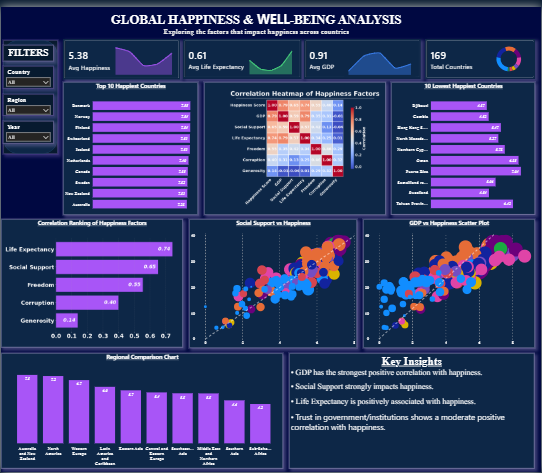

Layout of this report page (visuals, bound fields, positions):
{"tool":"powerbi","page":{"name":"Page 1","canvas":[1800,1550],"ordinal":0},"visuals":[{"type":"textbox","box":[198.3,5,1301.7,100],"z":0},{"type":"shape","box":[5,110,182.5,380],"z":1000},{"type":"textbox","box":[5,127.1,168.6,54.3],"z":2000},{"type":"slicer","fields":{"Values":["Happiness_Data.Country"]},"box":[5,197.9,168.6,75],"z":3000},{"type":"slicer","fields":{"Values":["Happiness_Data.Region"]},"box":[5,291.4,168.6,72.1],"z":4000},{"type":"slicer","fields":{"Values":["Happiness_Data.Year"]},"box":[5,381.4,168.6,75],"z":5000},{"type":"cardVisual","fields":{"Data":["Happiness_Data.Avg Happiness"]},"box":[207.5,105,390,135],"z":6000},{"type":"lineChart","fields":{"Y":["Sum(Happiness_Data.Happiness Score)"],"Category":["Happiness_Data.Year"]},"box":[367.3,120,218.2,110.9],"z":7000},{"type":"cardVisual","fields":{"Data":["Happiness_Data.Avg Life Expectancy","Happiness_Data.Avg Life Expectancy"]},"box":[605,107.5,395,132.5],"z":8000},{"type":"lineChart","fields":{"Category":["Happiness_Data.Year"],"Y":["Sum(Happiness_Data.Life Expectancy)"]},"box":[813.6,117.3,171.8,112.7],"z":9000},{"type":"cardVisual","fields":{"Data":["Happiness_Data.Total Countries"]},"box":[1411.7,106.7,366.7,133.3],"z":10000},{"type":"donutChart","fields":{"Category":["Happiness_Data.Region"],"Y":["Happiness_Data.Total Countries"]},"box":[1605.5,117.3,171.8,112.7],"z":11000},{"type":"cardVisual","fields":{"Data":["Happiness_Data.Avg GDP","Happiness_Data.Avg GDP"]},"box":[1010.9,107.3,389.1,132.7],"z":12000},{"type":"lineChart","fields":{"Category":["Happiness_Data.Year"],"Y":["Sum(Happiness_Data.GDP)"]},"box":[1144.5,115.5,238.2,114.5],"z":13000},{"type":"pythonVisual","fields":{"Values":["Happiness_Data.Happiness Score","Happiness_Data.GDP","Happiness_Data.Social Support","Happiness_Data.Life Expectancy","Happiness_Data.Freedom","Happiness_Data.Corruption","Happiness_Data.Generosity"]},"box":[676.2,250,606.2,442.5],"z":14000},{"type":"clusteredBarChart","title":"Top 10 Happiest Countries","fields":{"Category":["Happiness_Data.Country"],"Y":["Avg(Happiness_Data.Happiness Score)"]},"box":[207.5,250,450,442.5],"z":15000},{"type":"clusteredBarChart","title":"10 Lowest Happiest Countries","fields":{"Category":["Happiness_Data.Country"],"Y":["Avg(Happiness_Data.Happiness Score)"]},"box":[1298.3,250,480,441.7],"z":16000},{"type":"clusteredColumnChart","title":"Regional Comparison Chart","fields":{"Category":["Happiness_Data.Region"],"Y":["Happiness_Data.Avg Happiness"]},"box":[0,1153.3,940,385],"z":17000},{"type":"scatterChart","title":"GDP vs Happiness Scatter Plot","fields":{"X":["Sum(Happiness_Data.GDP)"],"Y":["Sum(Happiness_Data.Happiness Score)"],"Size":["Sum(Happiness_Data.Life Expectancy)"],"Series":["Happiness_Data.Region"],"Category":["Happiness_Data.Country"]},"box":[1205,705,573.3,430],"z":18000},{"type":"scatterChart","title":"Social Support vs Happiness","fields":{"Y":["Sum(Happiness_Data.Happiness Score)"],"Series":["Happiness_Data.Region"],"Category":["Happiness_Data.Country"],"X":["Sum(Happiness_Data.Social Support)"],"Size":["Sum(Happiness_Data.GDP)"]},"box":[625,705,560,430],"z":19000},{"type":"pythonVisual","title":"Correlation Ranking of Happiness Factors","fields":{"Values":["Happiness_Data.Happiness Score","Happiness_Data.Social Support","Happiness_Data.Life Expectancy","Happiness_Data.Freedom","Happiness_Data.Generosity","Happiness_Data.Corruption"]},"box":[0,706,606,428],"z":20000},{"type":"textbox","box":[960,1153.3,818.3,385],"z":21000}]}

Visuals, with their boxes in screenshot pixels (x1, y1, x2, y2), scaled from the page's 1800x1550 canvas onto the 542x473 screenshot:
textbox: l=60, t=2, r=452, b=32
shape: l=2, t=34, r=56, b=150
textbox: l=2, t=39, r=52, b=55
slicer - Happiness_Data.Country: l=2, t=60, r=52, b=83
slicer - Happiness_Data.Region: l=2, t=89, r=52, b=111
slicer - Happiness_Data.Year: l=2, t=116, r=52, b=139
cardVisual - Happiness_Data.Avg Happiness: l=62, t=32, r=180, b=73
lineChart - Sum(Happiness_Data.Happiness Score) x Happiness_Data.Year: l=111, t=37, r=176, b=70
cardVisual - Happiness_Data.Avg Life Expectancy x Happiness_Data.Avg Life Expectancy: l=182, t=33, r=301, b=73
lineChart - Happiness_Data.Year x Sum(Happiness_Data.Life Expectancy): l=245, t=36, r=297, b=70
cardVisual - Happiness_Data.Total Countries: l=425, t=33, r=535, b=73
donutChart - Happiness_Data.Region x Happiness_Data.Total Countries: l=483, t=36, r=535, b=70
cardVisual - Happiness_Data.Avg GDP x Happiness_Data.Avg GDP: l=304, t=33, r=422, b=73
lineChart - Happiness_Data.Year x Sum(Happiness_Data.GDP): l=345, t=35, r=416, b=70
pythonVisual - Happiness_Data.Happiness Score x Happiness_Data.GDP: l=204, t=76, r=386, b=211
"Top 10 Happiest Countries" clusteredBarChart: l=62, t=76, r=198, b=211
"10 Lowest Happiest Countries" clusteredBarChart: l=391, t=76, r=535, b=211
"Regional Comparison Chart" clusteredColumnChart: l=0, t=352, r=283, b=469
"GDP vs Happiness Scatter Plot" scatterChart: l=363, t=215, r=535, b=346
"Social Support vs Happiness" scatterChart: l=188, t=215, r=357, b=346
"Correlation Ranking of Happiness Factors" pythonVisual: l=0, t=215, r=182, b=346
textbox: l=289, t=352, r=535, b=469
